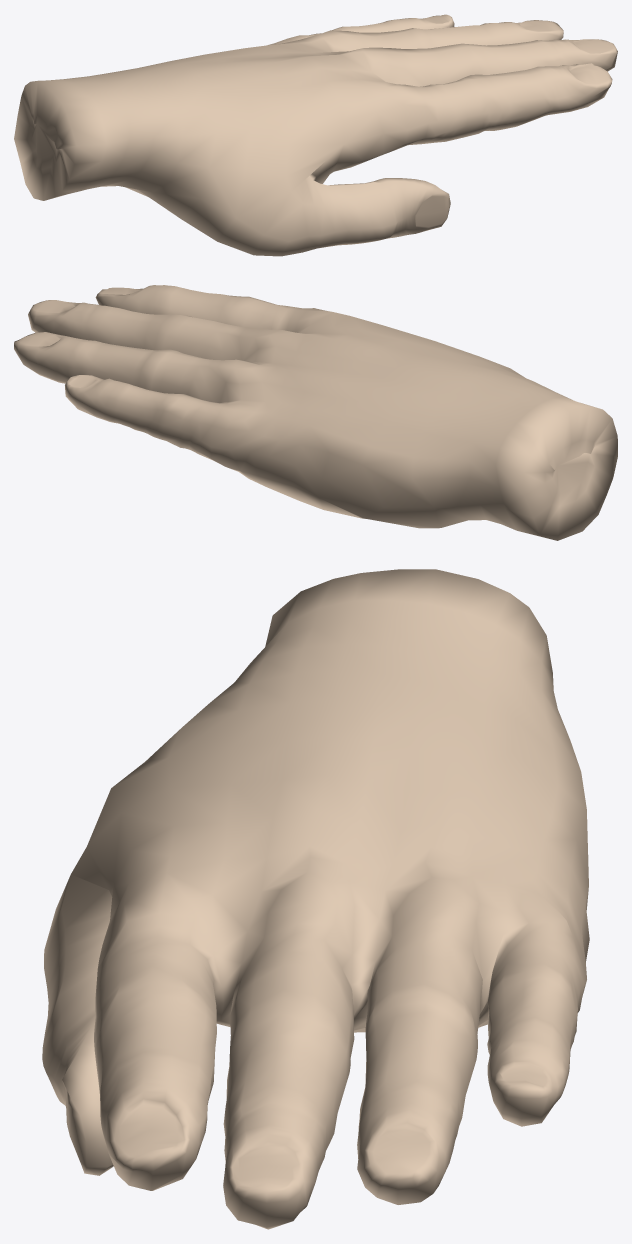
Rendered from HandL.fbx.
3 views of the same model, one above another, from view 1: azimuth 30°, elevation 25°; view 2: azimuth 150°, elevation 25°; view 3: azimuth 270°, elevation 25° (orthographic). The views are drawn at different scales.
Visible parts, largest first — view 1: HandL; view 2: HandL; view 3: HandL.
Boxes of the visible parts, x1,y1,x2,y2 form: HandL: (14, 14, 617, 256); HandL: (14, 285, 617, 540); HandL: (42, 569, 589, 1229).
Size of the model in its own units: 214 by 58.56 by 92.49.
